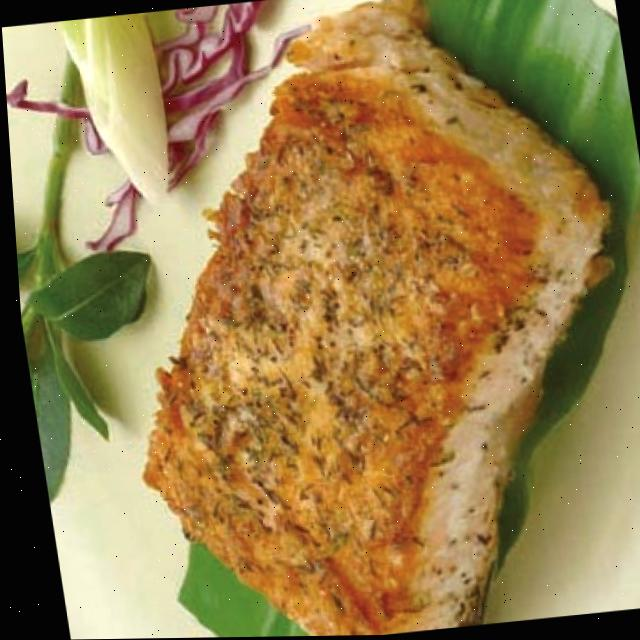熟制海鲜: (6, 0, 640, 640)
